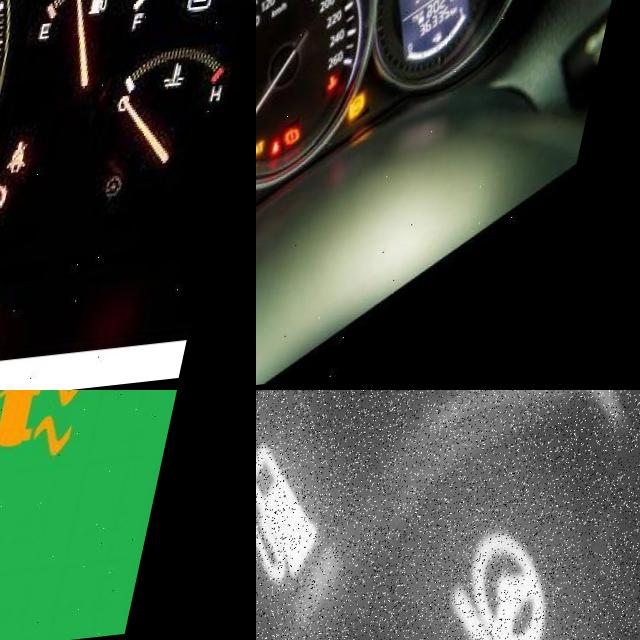Electronic Power Steering: (406, 484, 628, 640)
